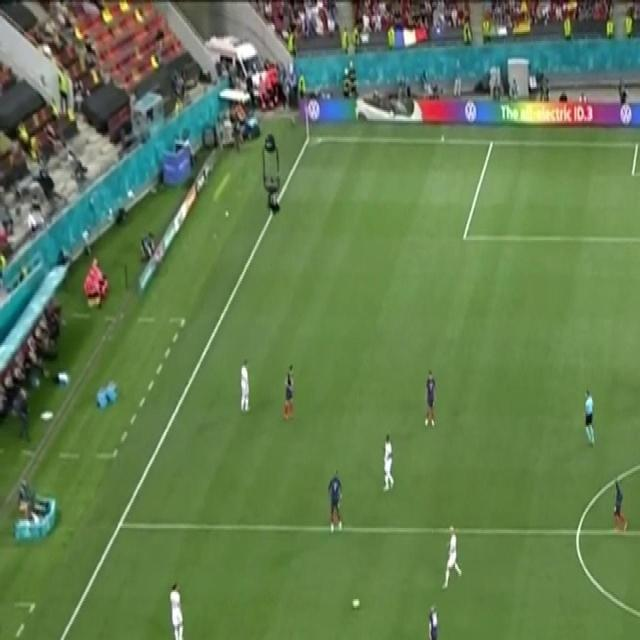ball: (348, 595, 362, 611)
player-white: (441, 521, 463, 594), (325, 462, 345, 536), (610, 469, 628, 538), (380, 428, 396, 497), (422, 365, 438, 432), (168, 577, 185, 640), (280, 358, 296, 424), (238, 352, 252, 421), (583, 384, 597, 450), (422, 597, 439, 640), (639, 339, 640, 404)
